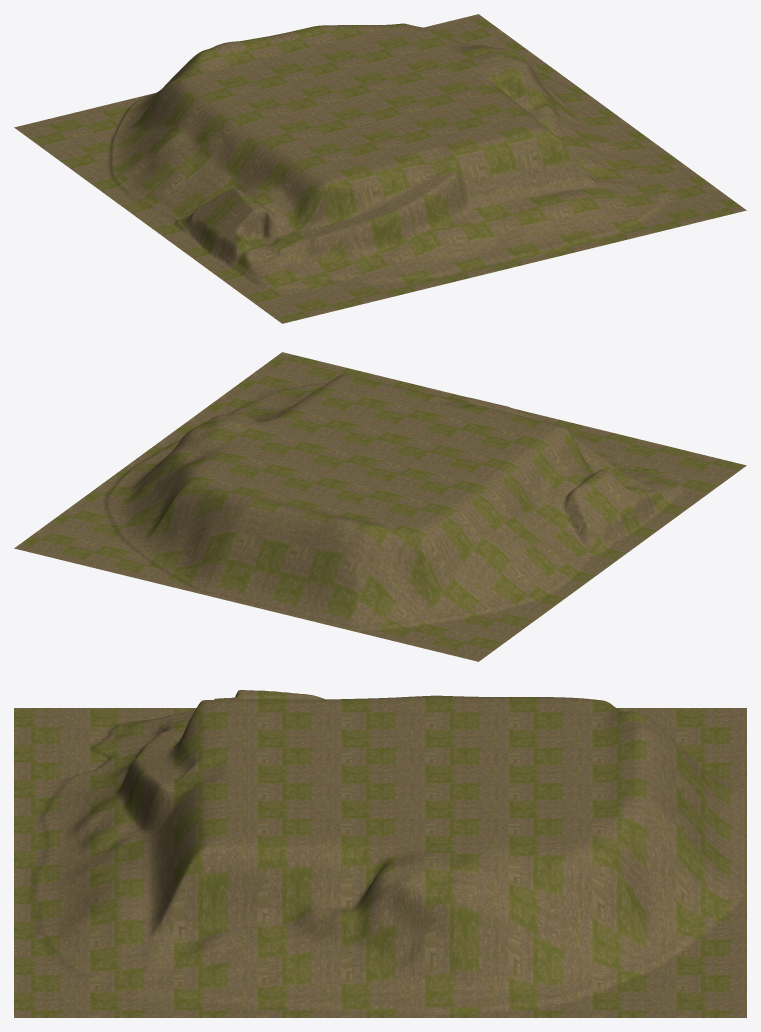
3 views of the same model, one above another, from view 1: azimuth 30°, elevation 25°; view 2: azimuth 150°, elevation 25°; view 3: azimuth 270°, elevation 25° (orthographic). The views are drawn at different scales.
Visible parts, largest first — view 1: Source mountain continuous surface; view 2: Source mountain continuous surface; view 3: Source mountain continuous surface.
Part boxes in pixels (x1,y1,x2,y2): Source mountain continuous surface: (14,14,746,323); Source mountain continuous surface: (14,352,746,661); Source mountain continuous surface: (14,690,746,1017).
Bounding box in the file's own units: 280 × 40.26 × 280.
1 material, 1 textured.
